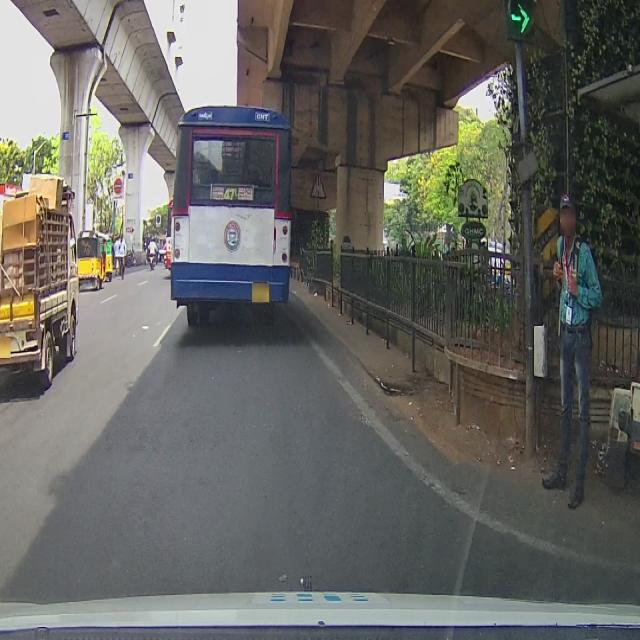bus ahead at: (167, 104, 294, 342)
car ahead at: (0, 172, 81, 388)
person ahead at: (545, 184, 600, 514)
